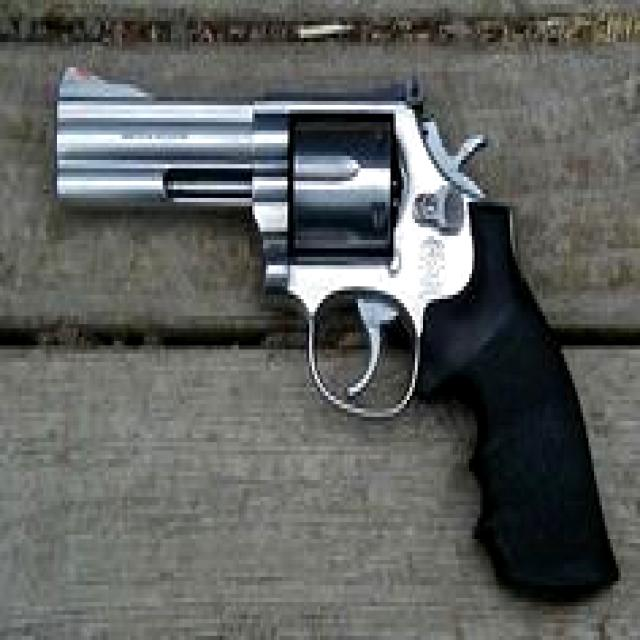revolver: (39, 32, 630, 619)
